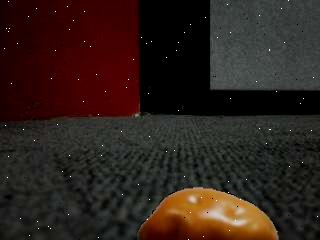Potato: (137, 187, 280, 240)
